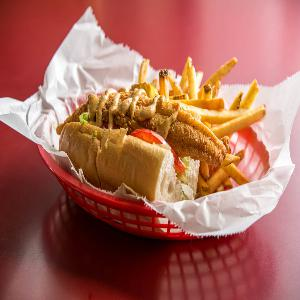fries_350cal: (141, 61, 274, 123)
